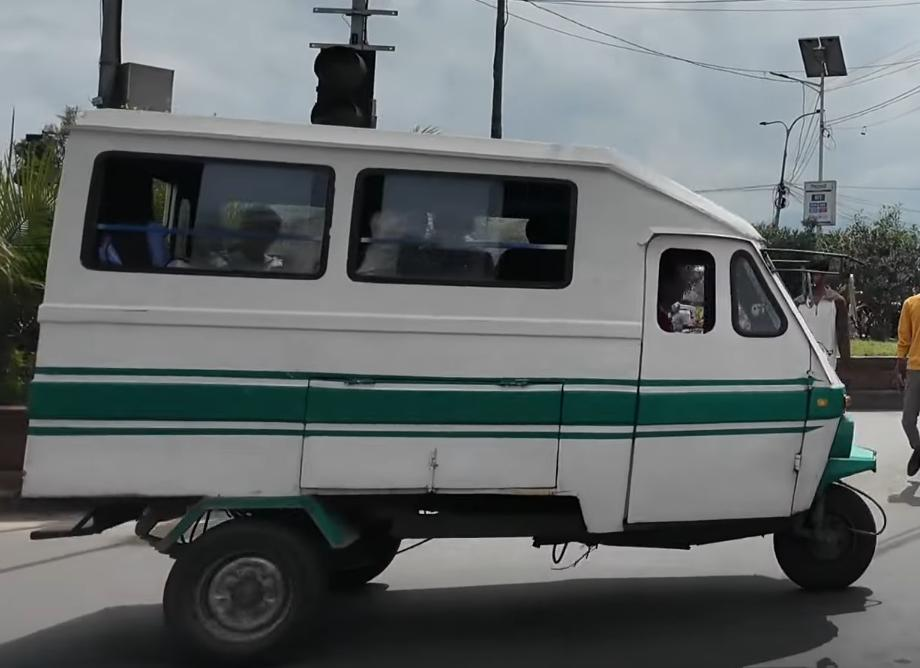tempo: (35, 102, 892, 668)
